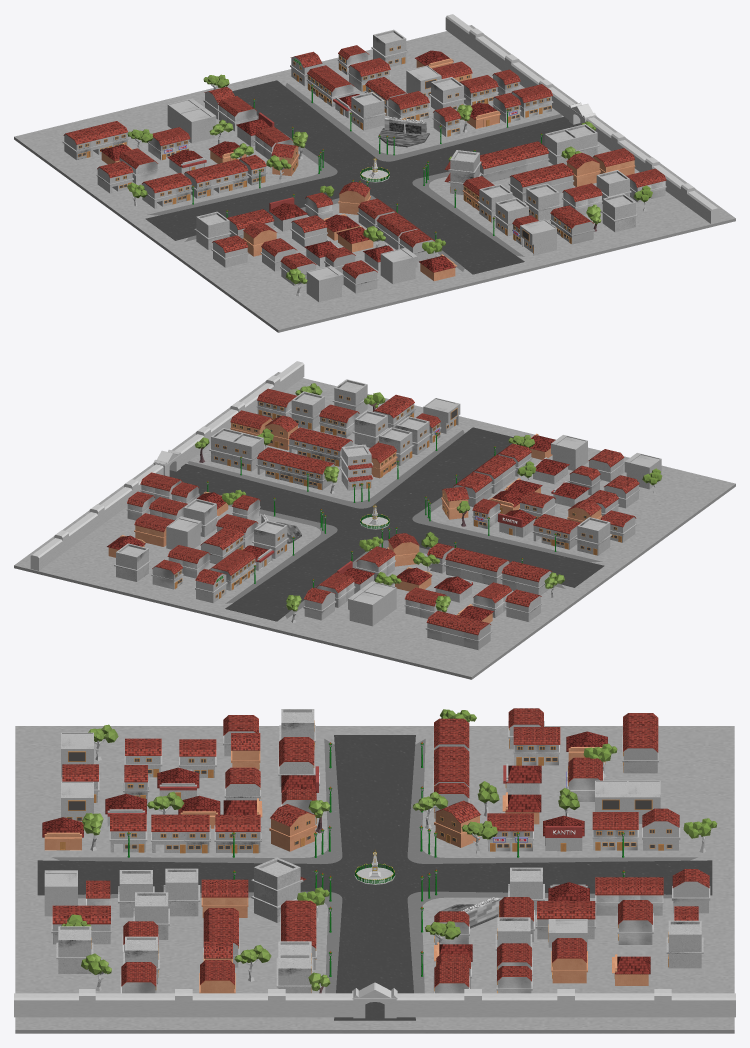
The model's file is BaseGame.fbx.
The picture shows the model from 3 angles, top to bottom: view 1: azimuth 30°, elevation 25°; view 2: azimuth 150°, elevation 25°; view 3: azimuth 270°, elevation 25°; orthographic projection. The views are drawn at different scales.
Parts seen in each view (by area): view 1: Cube, Plane, Cube.016, Plane.001, Cube.023, Text.093, Text.025, Text.082, Text.104, Cube.022, Text.003, Text.091 (+54 smaller); view 2: Cube, Plane, Cube.016, Plane.001, Cube.022, Text.089, Text.067, Text.091, Text.096, Text.083, Text.093, Text.021 (+49 smaller); view 3: Cube, Plane, Cube.016, Plane.001, Cube.022, Text.073, Text.091, Text.004, Text.082, Text.033, Text.012, Text.001 (+80 smaller).
Part boxes in pixels (x1,y1,x2,y2): Cube: (14, 25, 735, 332); Plane: (145, 80, 580, 274); Cube.016: (445, 14, 719, 223); Plane.001: (147, 83, 562, 271); Cube.023: (378, 117, 429, 147); Text.093: (380, 247, 417, 284); Text.025: (349, 92, 386, 130); Text.082: (601, 193, 637, 232); Text.104: (306, 265, 343, 302); Cube.022: (444, 150, 481, 194); Text.003: (520, 219, 556, 255); Text.091: (371, 29, 407, 66); Cube: (14, 372, 735, 679); Plane: (169, 427, 604, 621); Cube.016: (30, 361, 304, 570); Plane.001: (187, 430, 602, 618); Cube.022: (340, 444, 373, 490); Text.089: (575, 517, 612, 555); Text.067: (348, 590, 384, 626); Text.091: (114, 543, 150, 581); Text.096: (289, 391, 324, 429); Text.083: (229, 433, 263, 471); Text.093: (551, 435, 587, 470); Text.021: (352, 410, 389, 447); Cube: (15, 726, 734, 1033); Plane: (37, 735, 712, 1020); Cube.016: (14, 982, 735, 1018); Plane.001: (52, 739, 697, 993); Cube.022: (251, 857, 306, 922); Text.073: (269, 804, 316, 851); Text.091: (666, 920, 703, 968); Text.004: (163, 868, 200, 916); Text.082: (56, 926, 93, 973); Text.033: (642, 808, 680, 850); Text.012: (434, 800, 480, 847); Text.001: (672, 869, 710, 913).
Bounding box in the file's own units: 21992 × 1703 × 22070.
